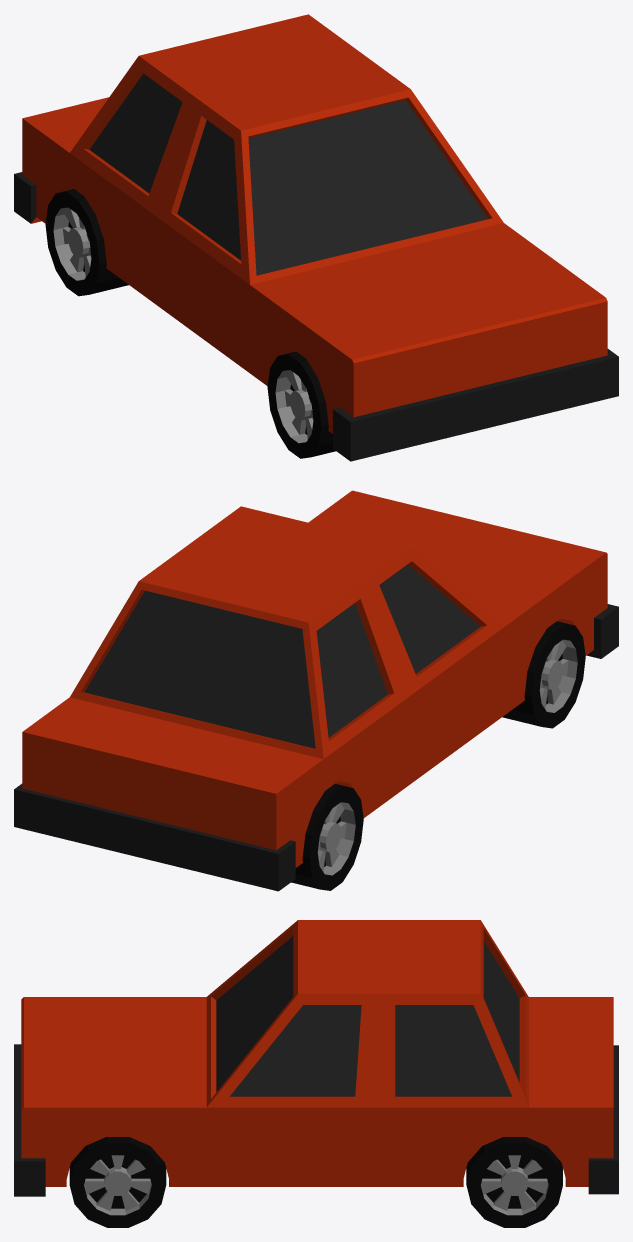
File: Car.fbx
The picture shows the model from 3 angles, top to bottom: view 1: azimuth 30°, elevation 25°; view 2: azimuth 150°, elevation 25°; view 3: azimuth 270°, elevation 25°; orthographic projection. The views are drawn at different scales.
Parts seen in each view (by area): view 1: car_body, wheel_front.001, wheel_front; view 2: car_body, wheel_front, wheel_front.001; view 3: car_body, wheel_front, wheel_front.001.
Boxes of the visible parts, bbox=[...] form: car_body: bbox=[14, 14, 618, 461]; wheel_front.001: bbox=[45, 189, 128, 296]; wheel_front: bbox=[267, 351, 335, 458]; car_body: bbox=[14, 490, 618, 891]; wheel_front: bbox=[502, 621, 585, 728]; wheel_front.001: bbox=[291, 783, 363, 890]; car_body: bbox=[14, 920, 618, 1196]; wheel_front: bbox=[69, 1137, 166, 1227]; wheel_front.001: bbox=[466, 1137, 562, 1227].
Size of the model in its own units: 211 by 179 by 462.
